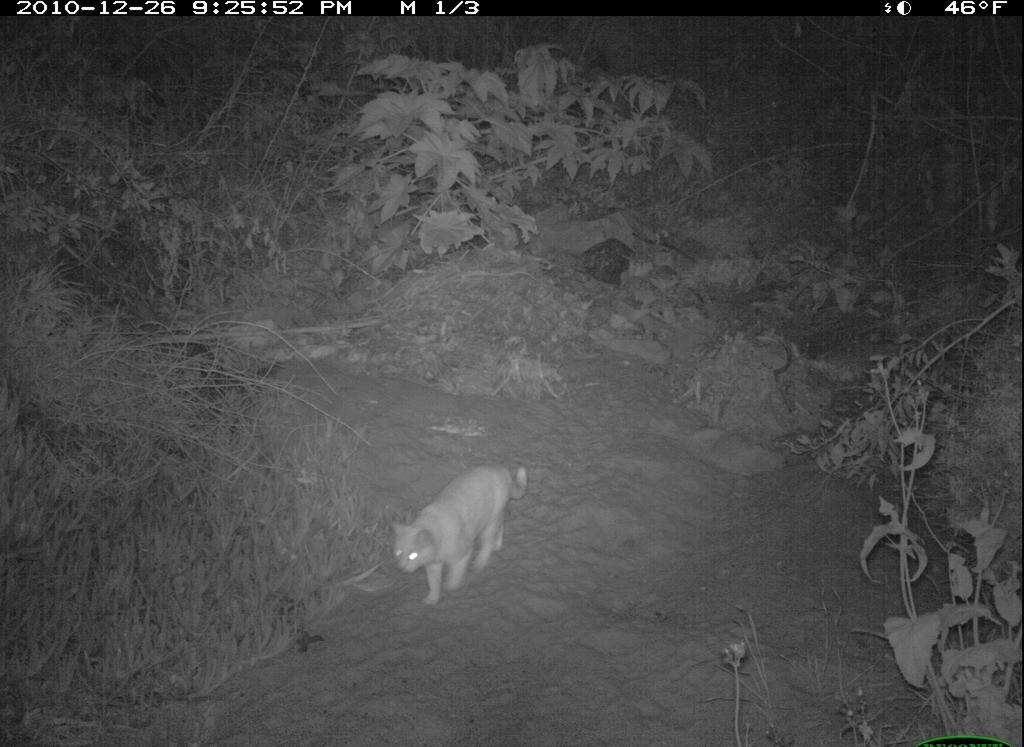cat: (386, 463, 537, 614)
